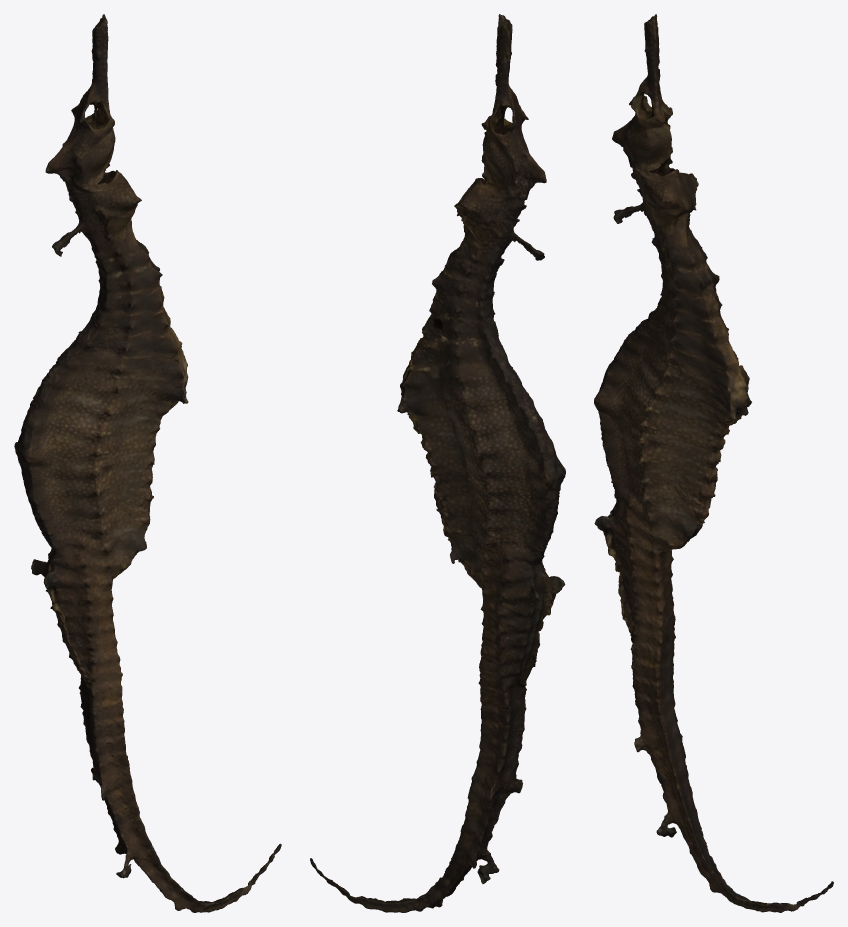
The picture shows the model from 3 angles, left to right: view 1: azimuth 30°, elevation 25°; view 2: azimuth 150°, elevation 25°; view 3: azimuth 330°, elevation 25°; orthographic projection. The views are drawn at different scales.
Visible parts, largest first — view 1: tamanho; view 2: tamanho; view 3: tamanho.
Boxes of the visible parts, x1=… form: tamanho: x1=14, y1=14, x2=281, y2=912; tamanho: x1=310, y1=14, x2=565, y2=912; tamanho: x1=594, y1=14, x2=833, y2=912.
Bounding box in the file's own units: 2494 × 8564 × 599.
Materials: 1 (1 with a texture image).
